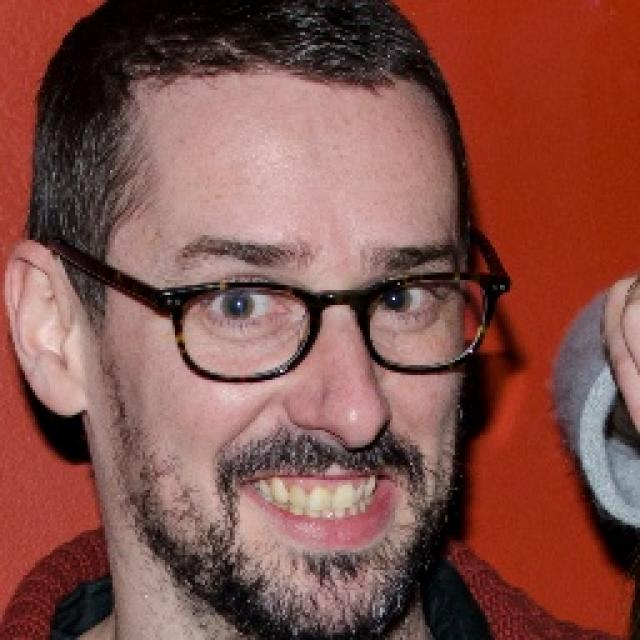earlobe: (36, 360, 84, 419)
eye: (200, 286, 292, 327), (374, 280, 446, 317)
nose: (290, 425, 384, 465)
wholeear: (6, 240, 84, 418)
